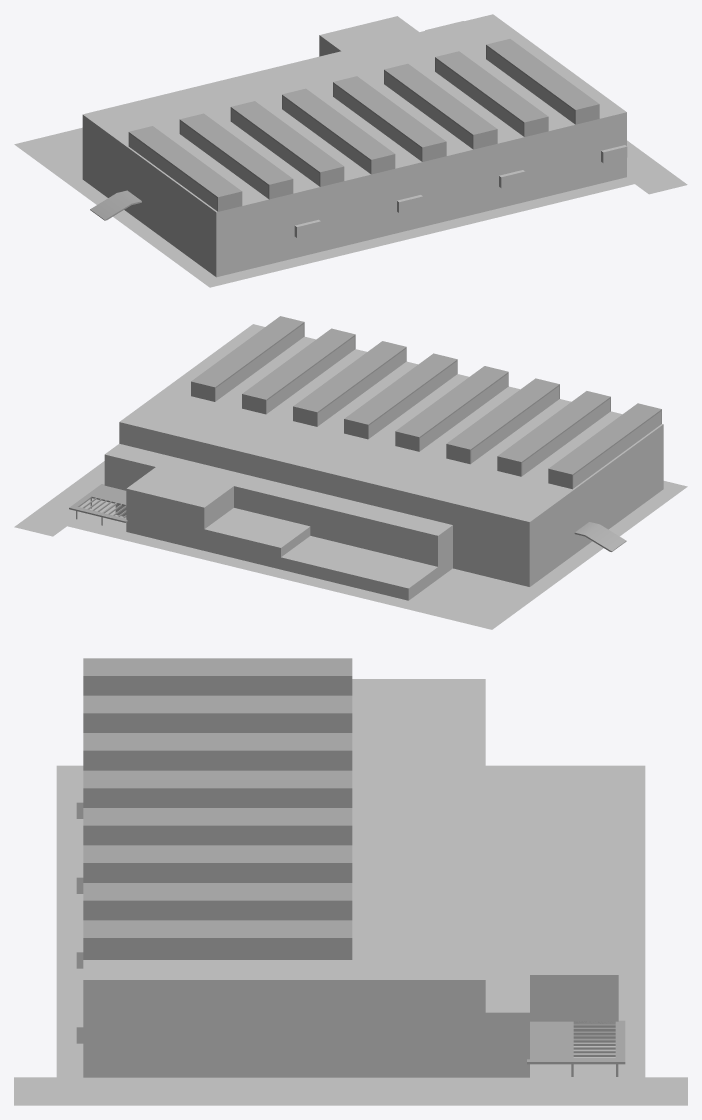
Rendered from POLIDEPORTIVO.FBX.
3 renders of one model, top to bottom at view 1: azimuth 30°, elevation 25°; view 2: azimuth 150°, elevation 25°; view 3: azimuth 270°, elevation 25°, orthographic. The views are drawn at different scales.
Parts seen in each view (by area): view 1: MUROS POLIDEPORTIVO, GRIS CLARO MATE, REJILLA CUBIERTA, PAVIMENTO, VENHO_POLI, PUECE_POLI; view 2: MUROS POLIDEPORTIVO, GRIS CLARO MATE, PAVIMENTO, REJILLA CUBIERTA, VENHO_POLI; view 3: MUROS POLIDEPORTIVO, GRIS CLARO MATE, PAVIMENTO, VENHO_POLI.
Boxes of the visible parts, x1=… form: MUROS POLIDEPORTIVO: x1=82, y1=14, x2=626, y2=277; GRIS CLARO MATE: x1=90, y1=39, x2=599, y2=220; REJILLA CUBIERTA: x1=129, y1=47, x2=574, y2=210; PAVIMENTO: x1=14, y1=21, x2=687, y2=287; VENHO_POLI: x1=83, y1=125, x2=627, y2=276; PUECE_POLI: x1=127, y1=180, x2=548, y2=273; MUROS POLIDEPORTIVO: x1=104, y1=324, x2=663, y2=600; GRIS CLARO MATE: x1=69, y1=316, x2=661, y2=551; PAVIMENTO: x1=14, y1=461, x2=687, y2=629; REJILLA CUBIERTA: x1=216, y1=324, x2=661, y2=488; VENHO_POLI: x1=106, y1=460, x2=559, y2=568; MUROS POLIDEPORTIVO: x1=83, y1=679, x2=618, y2=1077; GRIS CLARO MATE: x1=83, y1=658, x2=625, y2=1076; PAVIMENTO: x1=14, y1=765, x2=687, y2=1105; VENHO_POLI: x1=76, y1=785, x2=615, y2=1077.
Size of the model in its own units: 106 by 16.57 by 84.43.
